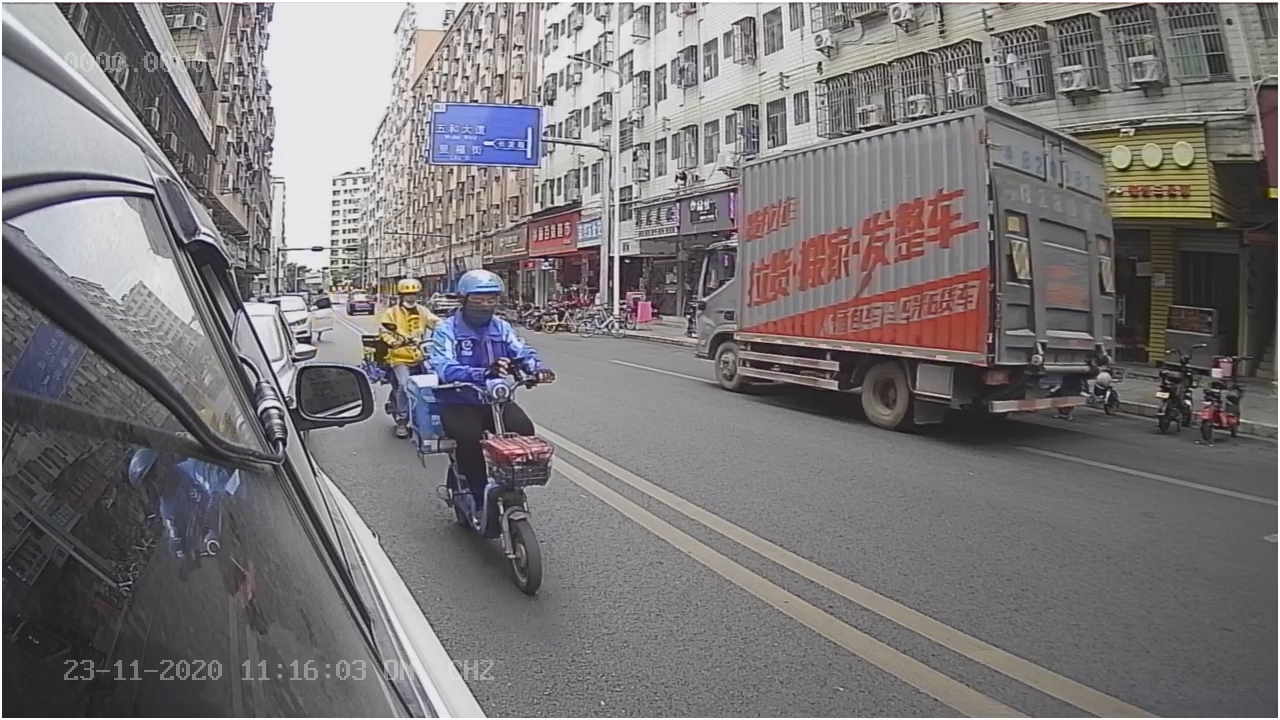person: (425, 265, 550, 359)
